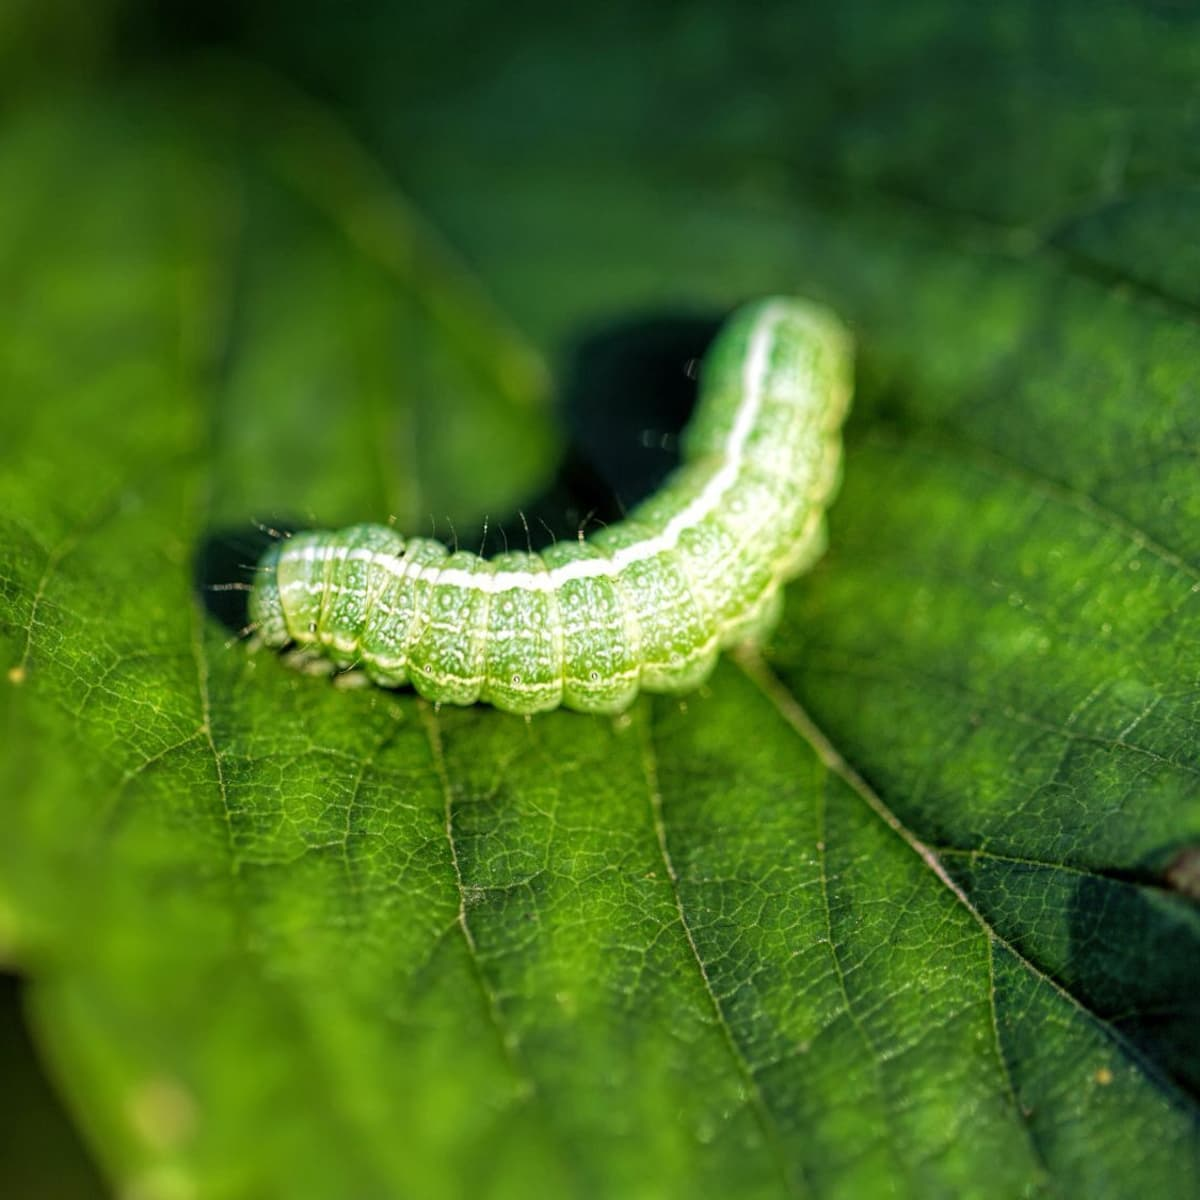Caterpillar: (248, 295, 859, 709)
